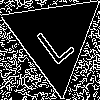L: (29, 13, 76, 67)
